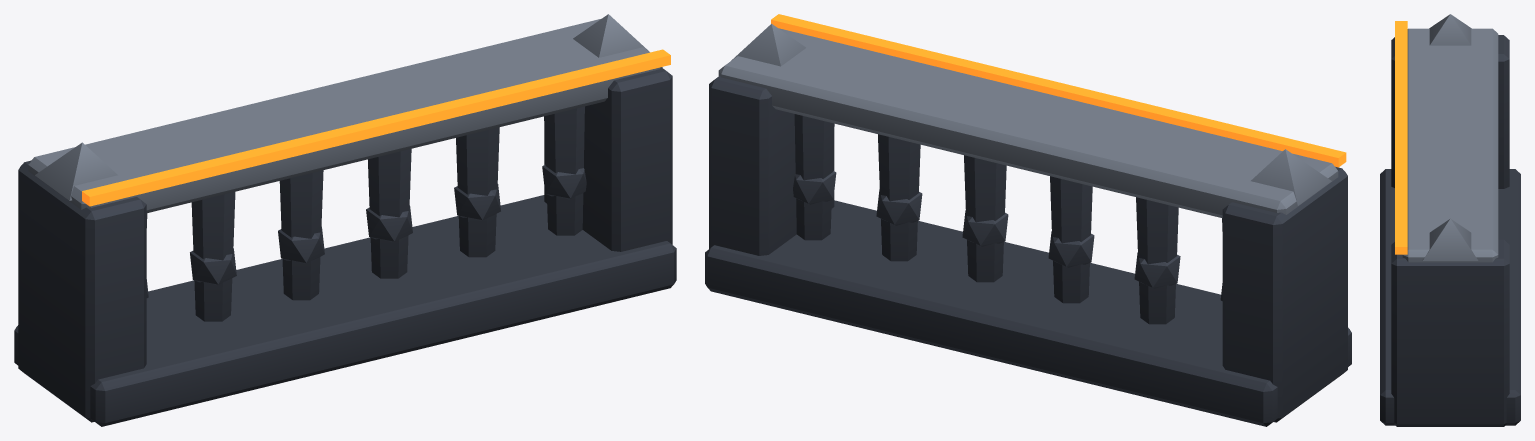
File: low_barrier.glb
The picture shows the model from 3 angles, left to right: view 1: azimuth 30°, elevation 25°; view 2: azimuth 150°, elevation 25°; view 3: azimuth 270°, elevation 25°; orthographic projection. The views are drawn at different scales.
Parts seen in each view (by area): view 1: low_barrier_mesh; view 2: low_barrier_mesh; view 3: low_barrier_mesh.
Boxes of the visible parts, <box> form: low_barrier_mesh: <box>14,14,676,426</box>; low_barrier_mesh: <box>705,14,1351,426</box>; low_barrier_mesh: <box>1380,14,1520,426</box>.
Size of the model in its own units: 1.92 by 0.78 by 0.5.
